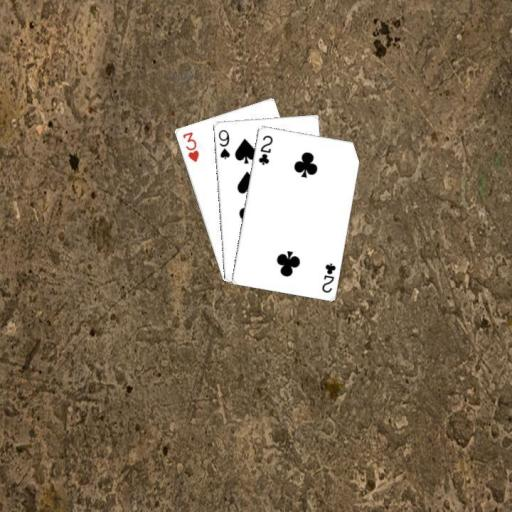2C: (255, 132, 274, 167), (319, 260, 337, 294)
3H: (179, 129, 200, 164)
9S: (215, 126, 231, 161)
